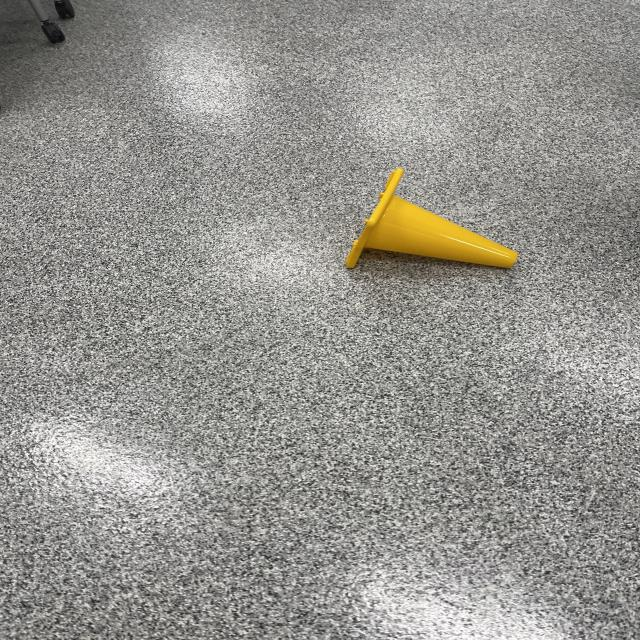frc_cone: (332, 165, 530, 279)
